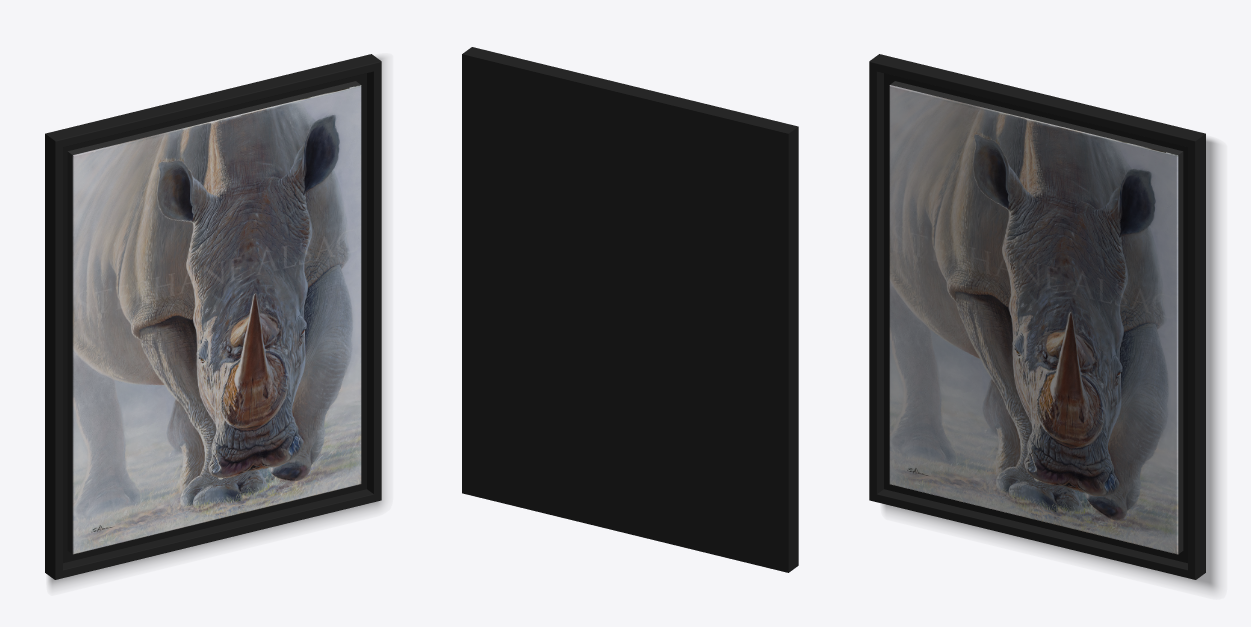
The model's file is dust-rage-peinture-rhino-grand-dd38246e.glb.
The picture shows the model from 3 angles, left to right: view 1: azimuth 30°, elevation 25°; view 2: azimuth 150°, elevation 25°; view 3: azimuth 330°, elevation 25°; orthographic projection.
Visible parts, largest first — view 1: Painting; view 2: Painting; view 3: Painting.
Part boxes in pixels (x1=…): Painting: x1=45, y1=54, x2=384, y2=587; Painting: x1=462, y1=47, x2=798, y2=572; Painting: x1=869, y1=54, x2=1218, y2=590.
Size of the model in its own units: 0.876 by 1.09 by 0.04.
5 materials, 3 textured.
